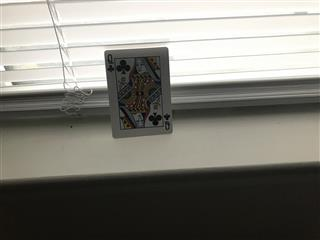QueenOfClubs: (103, 46, 173, 138)
